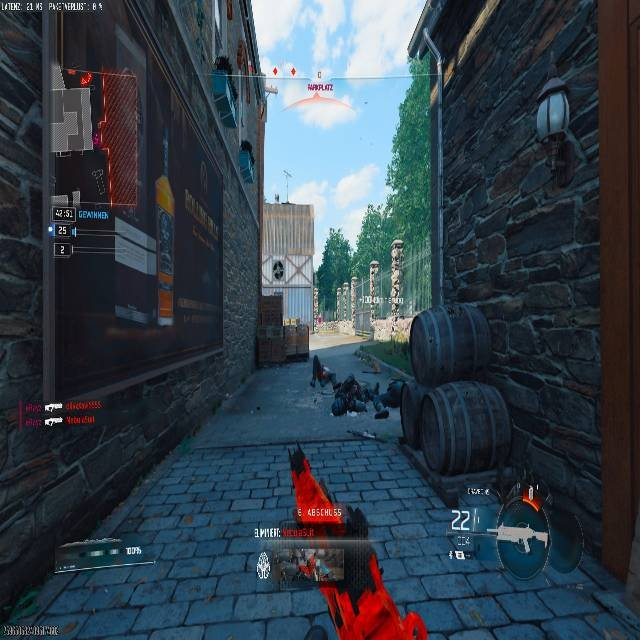head: (330, 399, 344, 417)
player: (273, 260, 283, 279)
